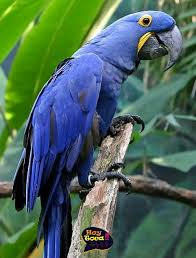guacamaya: (15, 9, 187, 202)
